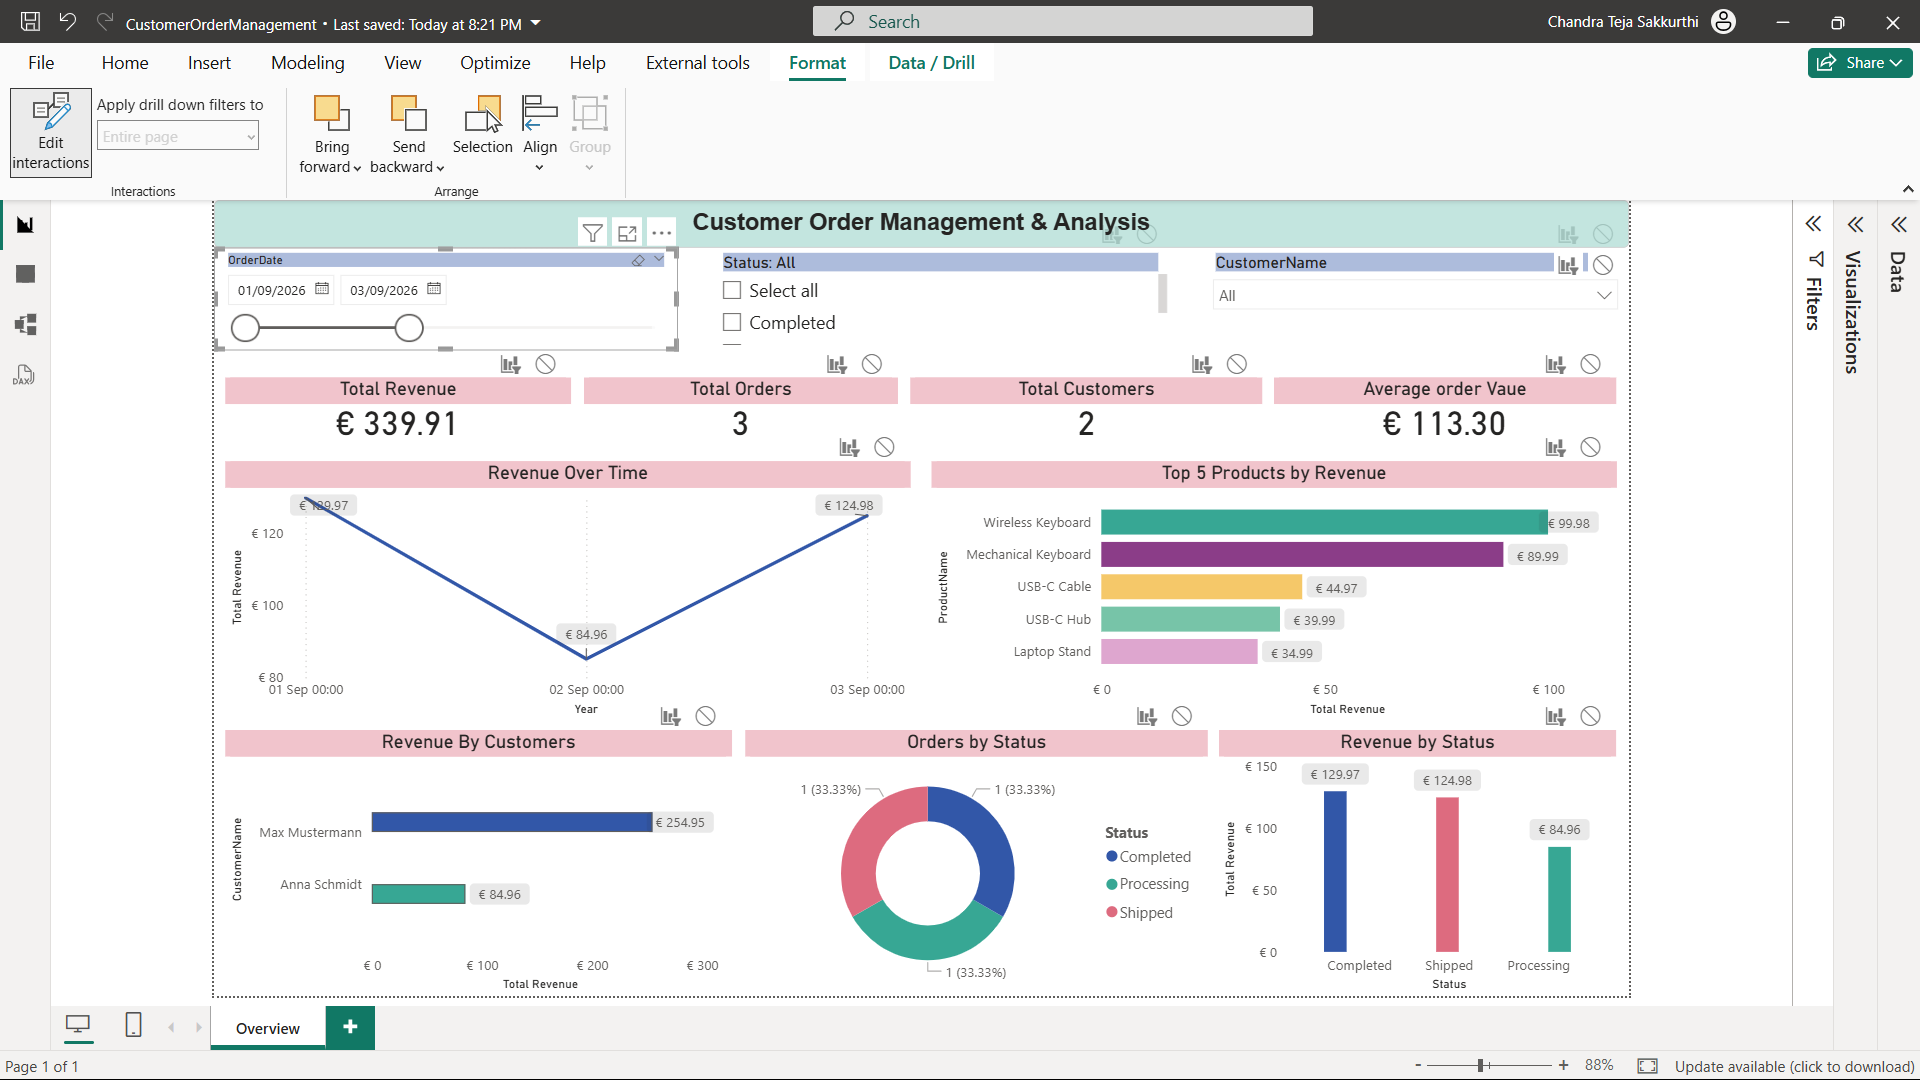

The dashboard page shown, as its layout file describes it:
{"tool":"powerbi","page":{"name":"Overview","canvas":[1280,720],"ordinal":0},"visuals":[{"type":"card","title":"Total Revenue","fields":{"Values":["Measures (2).Total Revenue"]},"box":[10.5,160.5,312.8,59.3],"z":0},{"type":"card","title":"Total Orders","fields":{"Values":["Measures (2).Total Orders"]},"box":[334.9,160.5,283.7,59.3],"z":1000},{"type":"card","title":"Total Customers","fields":{"Values":["Measures (2).Total Customers"]},"box":[630.2,160.5,318.6,59.3],"z":2000},{"type":"card","title":"Average order Vaue","fields":{"Values":["Measures (2).Average Order Value"]},"box":[959.3,160.5,309.3,59.3],"z":3000},{"type":"lineChart","title":"Revenue Over Time","fields":{"Y":["Measures (2).Total Revenue"],"Category":["Orders.OrderDate.Variation.Date Hierarchy.Year","Orders.OrderDate.Variation.Date Hierarchy.Quarter","Orders.OrderDate.Variation.Date Hierarchy.Month","Orders.OrderDate.Variation.Date Hierarchy.Day"]},"box":[10.5,236,619.8,234.9],"z":4000},{"type":"clusteredBarChart","title":"Revenue By Customers","fields":{"Category":["Customers.CustomerName"],"Y":["Measures (2).Total Revenue"],"Series":["Customers.CustomerID"]},"box":[10.5,479.1,458.1,240.7],"z":5000},{"type":"barChart","title":"Top 5 Products by Revenue","fields":{"Category":["Products.ProductName"],"Y":["Measures (2).Total Revenue"],"Series":["Products.ProductName"]},"box":[648.8,236,619.8,234.9],"z":6000},{"type":"slicer","title":"Date","fields":{"Values":["Orders.OrderDate"]},"box":[0,42.5,419.9,93.3],"z":7000},{"type":"slicer","fields":{"Values":["Orders.Status"]},"box":[447.7,43,419.8,93],"z":8000},{"type":"slicer","fields":{"Values":["Customers.CustomerName"]},"box":[893.3,42.5,387,93.3],"z":9000},{"type":"textbox","box":[0,0,1279.9,43],"z":10000},{"type":"clusteredColumnChart","title":"Revenue by Status","fields":{"Category":["Orders.Status"],"Y":["Measures (2).Total Revenue"],"Series":["Orders.Status"]},"box":[909.3,479.1,359.3,240.7],"z":11000},{"type":"donutChart","title":"Orders by Status","fields":{"Category":["Orders.Status"],"Y":["Measures (2).Total Orders by Product"]},"box":[480.2,479.1,418.6,240.7],"z":12000}]}

Visuals, with their boxes on the page's 1280x720 design canvas (x1, y1, x2, y2). These are canvas units, not pixel positions in the 1920x1080 screenshot, which may show the page scaled, cropped or inside an application window:
"Total Revenue" card: BBox(10, 160, 323, 220)
"Total Orders" card: BBox(335, 160, 619, 220)
"Total Customers" card: BBox(630, 160, 949, 220)
"Average order Vaue" card: BBox(959, 160, 1269, 220)
"Revenue Over Time" lineChart: BBox(10, 236, 630, 471)
"Revenue By Customers" clusteredBarChart: BBox(10, 479, 469, 720)
"Top 5 Products by Revenue" barChart: BBox(649, 236, 1269, 471)
"Date" slicer: BBox(0, 42, 420, 136)
slicer - Orders.Status: BBox(448, 43, 868, 136)
slicer - Customers.CustomerName: BBox(893, 42, 1280, 136)
textbox: BBox(0, 0, 1280, 43)
"Revenue by Status" clusteredColumnChart: BBox(909, 479, 1269, 720)
"Orders by Status" donutChart: BBox(480, 479, 899, 720)
